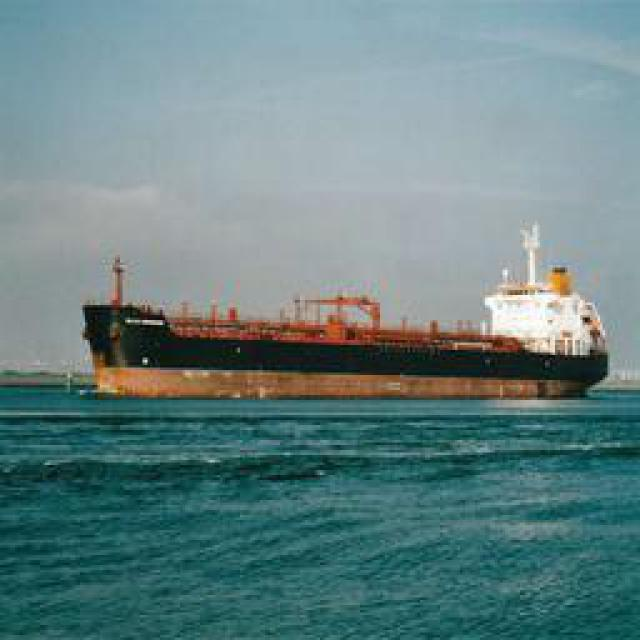Ship: (91, 250, 624, 403)
